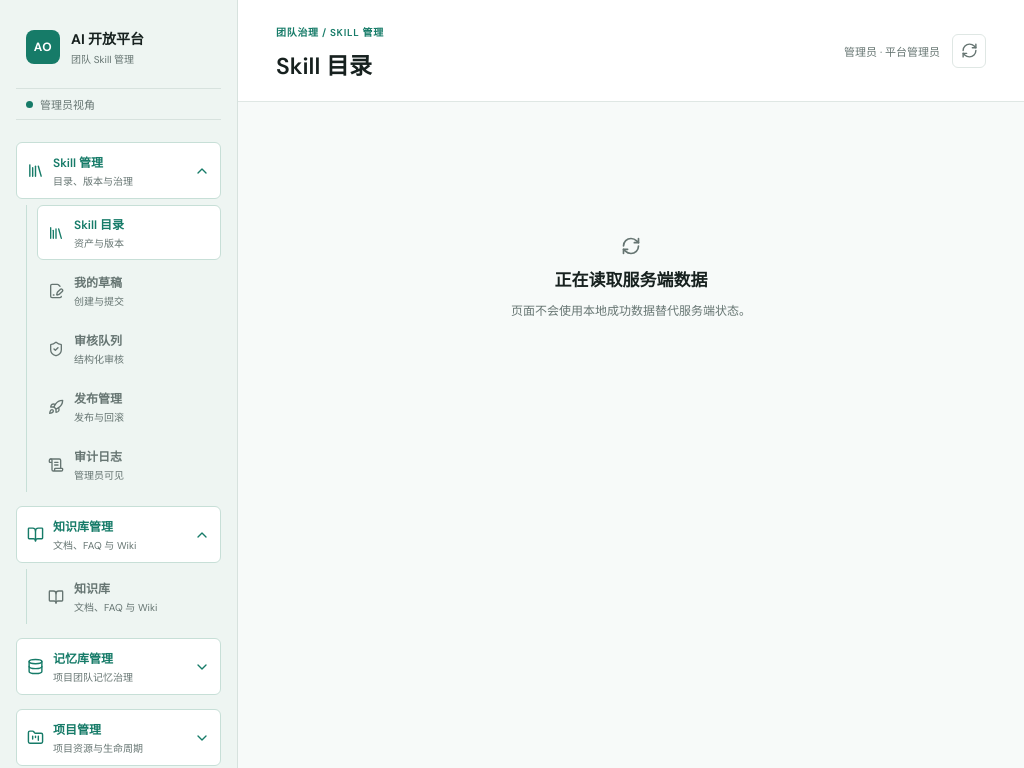
Test: AdminDashboard › shows an unavailable memory response from the service
Click the button "记忆库管理 项目团队记忆治理" at [118, 666], box [16,638,221,695]
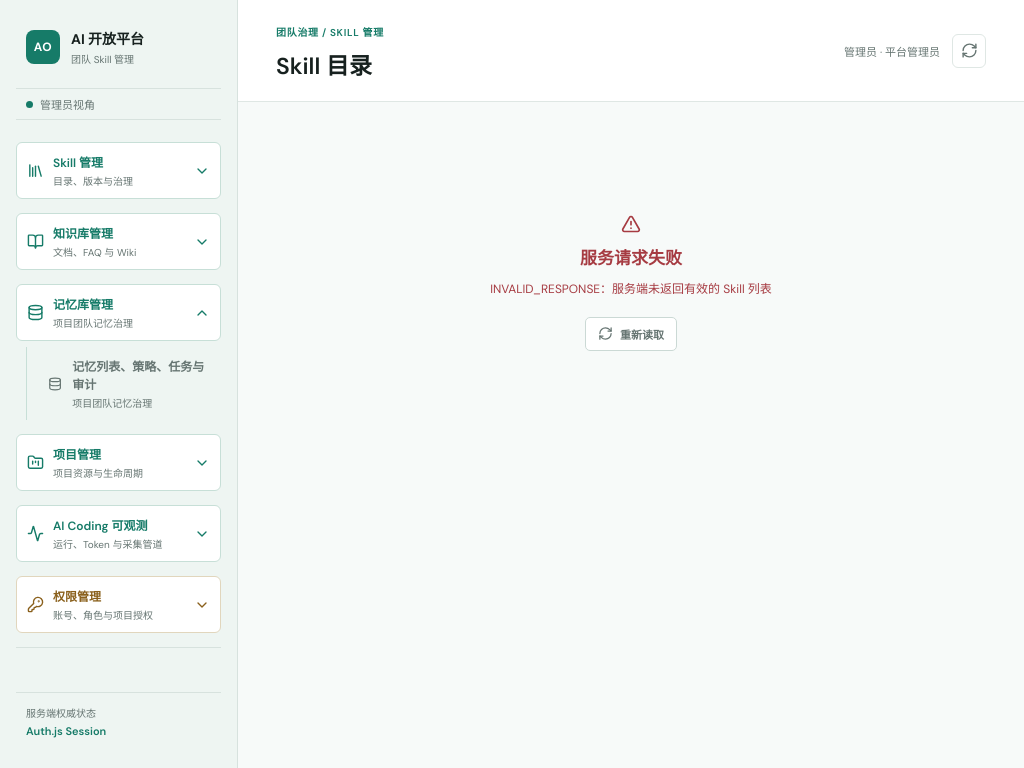
Click the button "记忆列表、策略、任务与审计 项目团队记忆治理" at [129, 384], box [37,347,221,420]
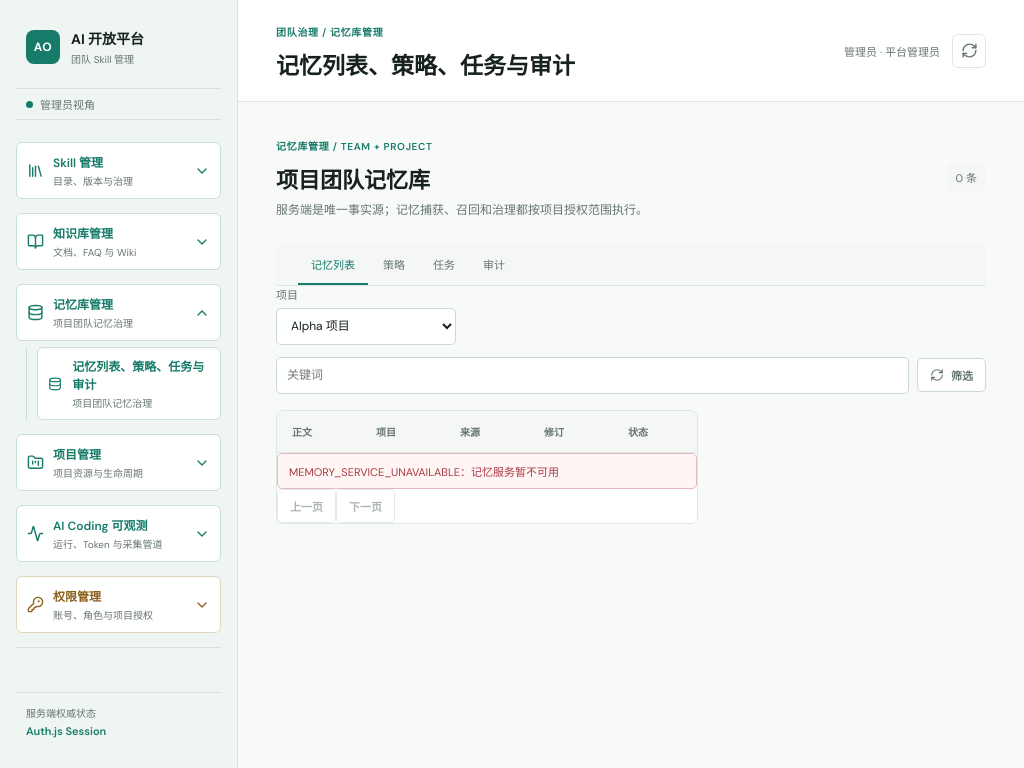
Now the text "MEMORY_SERVICE_UNAVAILABLE：记忆服务暂不可用" is shown, box [277,453,697,489]
